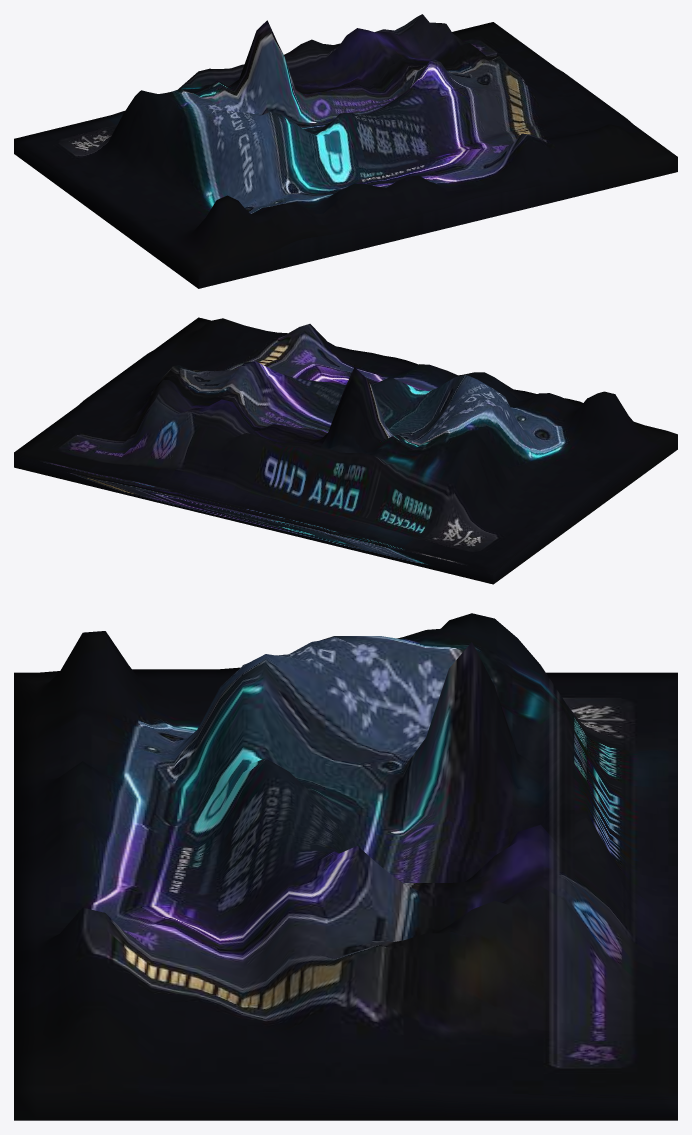
File: CAREER_03_Tool_05_Data_Chip.glb
3 views of the same model, one above another, from view 1: azimuth 30°, elevation 25°; view 2: azimuth 150°, elevation 25°; view 3: azimuth 270°, elevation 25° (orthographic). The views are drawn at different scales.
Visible parts, largest first — view 1: CAREER_03_Tool_05_Data_Chip; view 2: CAREER_03_Tool_05_Data_Chip; view 3: CAREER_03_Tool_05_Data_Chip.
Part boxes in pixels (left/top/right/bottom): CAREER_03_Tool_05_Data_Chip: left=14, top=14, right=677, bottom=288; CAREER_03_Tool_05_Data_Chip: left=14, top=317, right=677, bottom=584; CAREER_03_Tool_05_Data_Chip: left=14, top=613, right=677, bottom=1120.
Size of the model in its own units: 2 by 0.51 by 1.33.
Materials: 1 (1 with a texture image).
